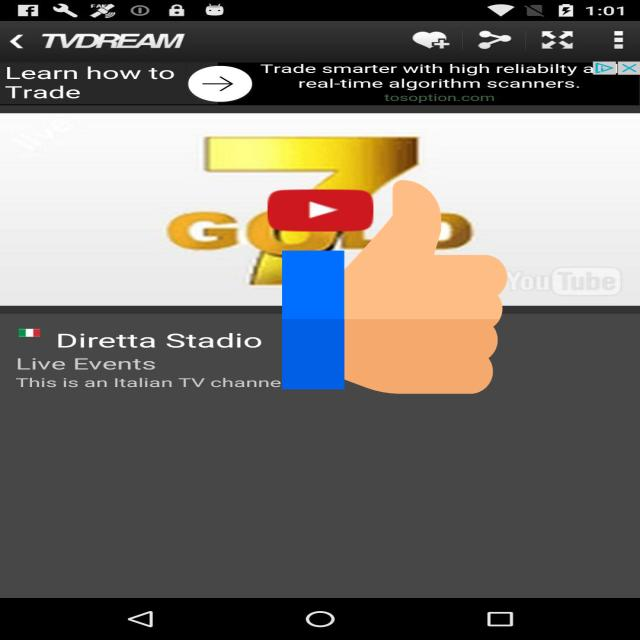privacy zuckering: (282, 175, 507, 399)
